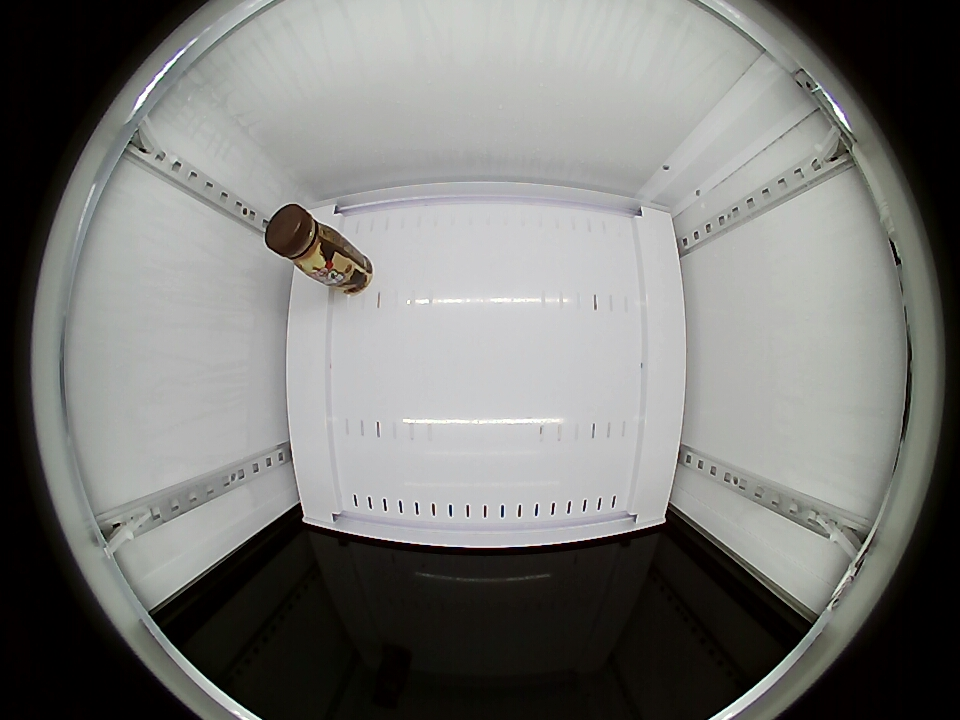lujikafei: (265, 203, 345, 280)
